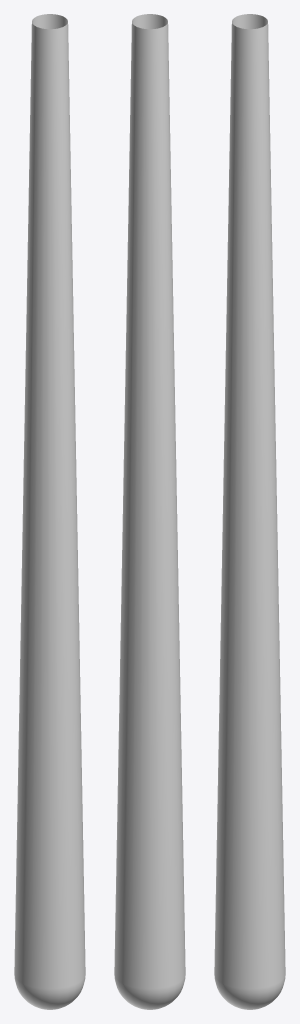
File: ray.obj
The picture shows the model from 3 angles, left to right: view 1: azimuth 30°, elevation 25°; view 2: azimuth 150°, elevation 25°; view 3: azimuth 330°, elevation 25°; orthographic projection.
Visible parts, largest first — view 1: Cylinder; view 2: Cylinder; view 3: Cylinder.
Part boxes in pixels (x1,y1,x2,y2): Cylinder: (14,14,85,1009); Cylinder: (114,14,185,1009); Cylinder: (214,14,285,1009).
Size of the model in its own units: 0.0197 by 0.3 by 0.0197.
